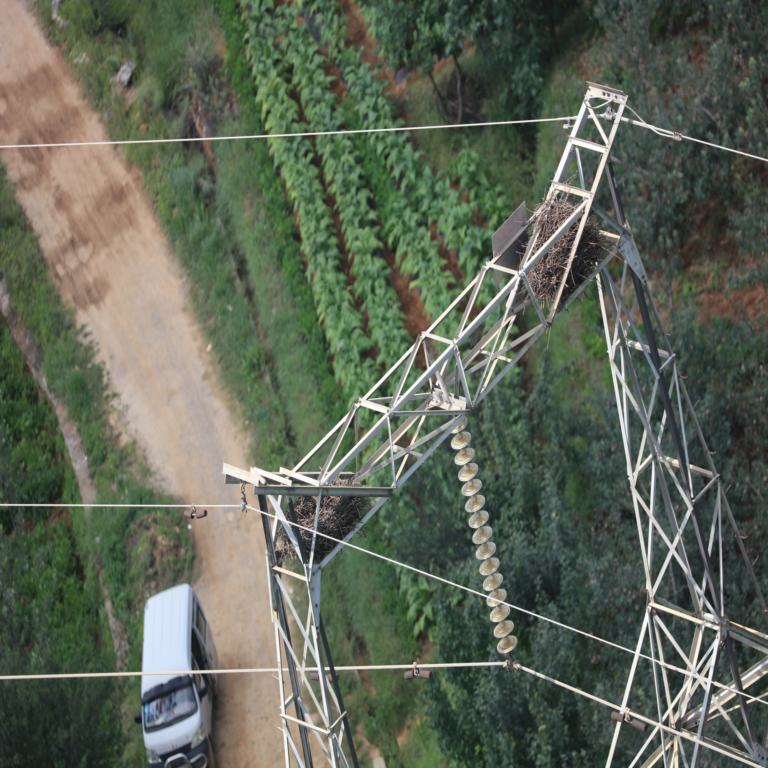nest: (523, 200, 602, 305), (286, 484, 366, 559)
